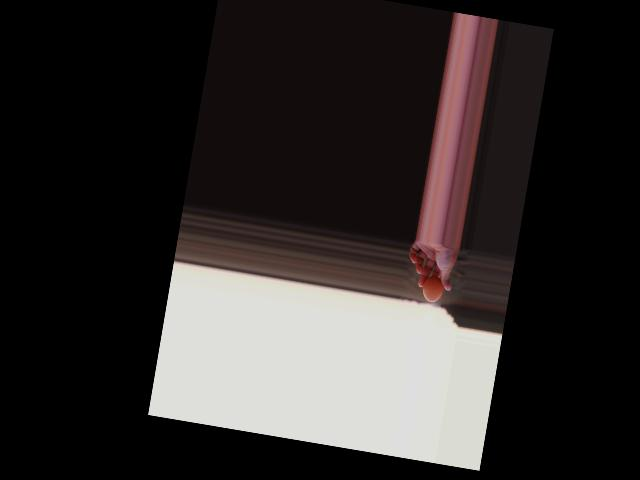egg: (420, 275, 444, 303)
